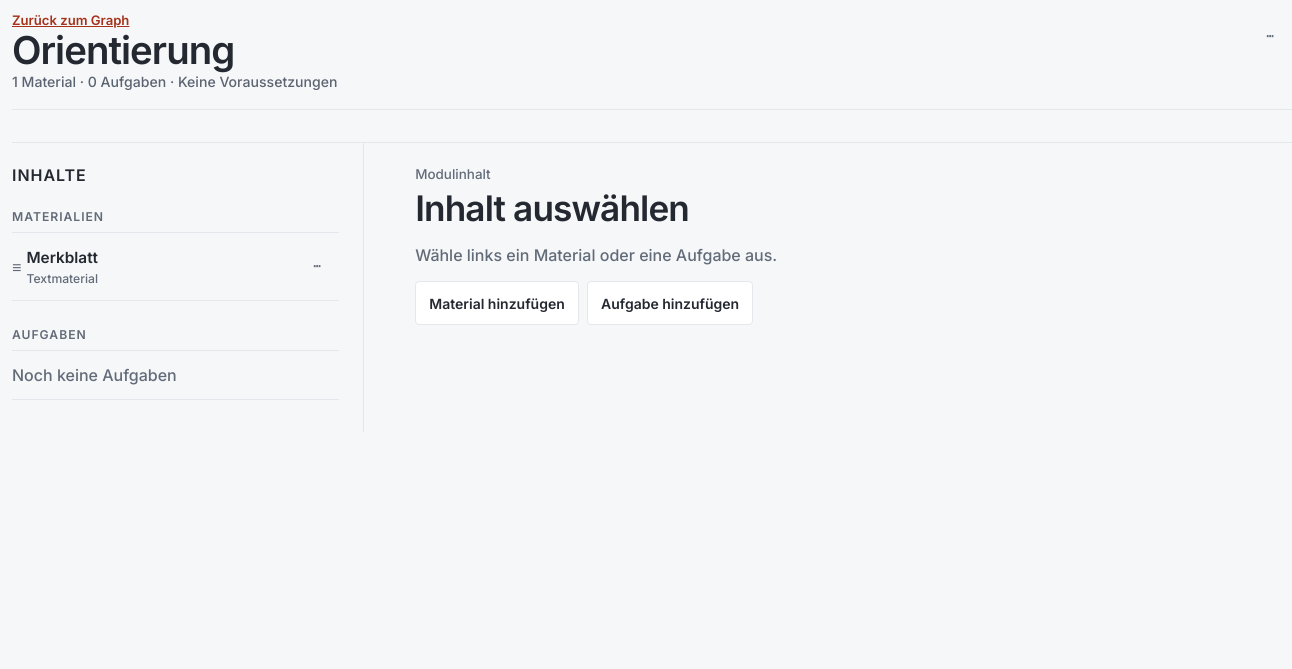
Test: teacher node editor page › removes the material draft marker after every field matches the saved material again
This screenshot has width=1292, height=669.
Click the button "≡ Merkblatt Textmaterial" at (62, 257), box [12,233,295,300]
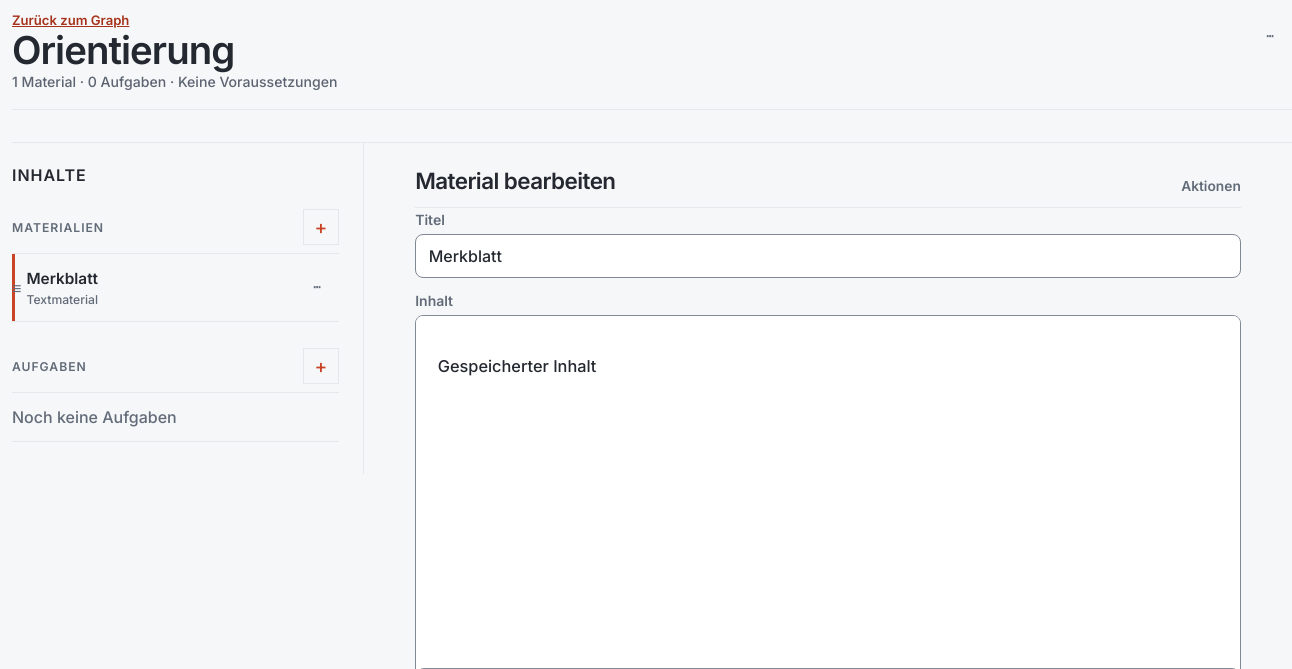
Replace the text in the field labelled "Titel" with "Merkblatt überarbeitet" at (828, 256), box [415,234,1241,278]
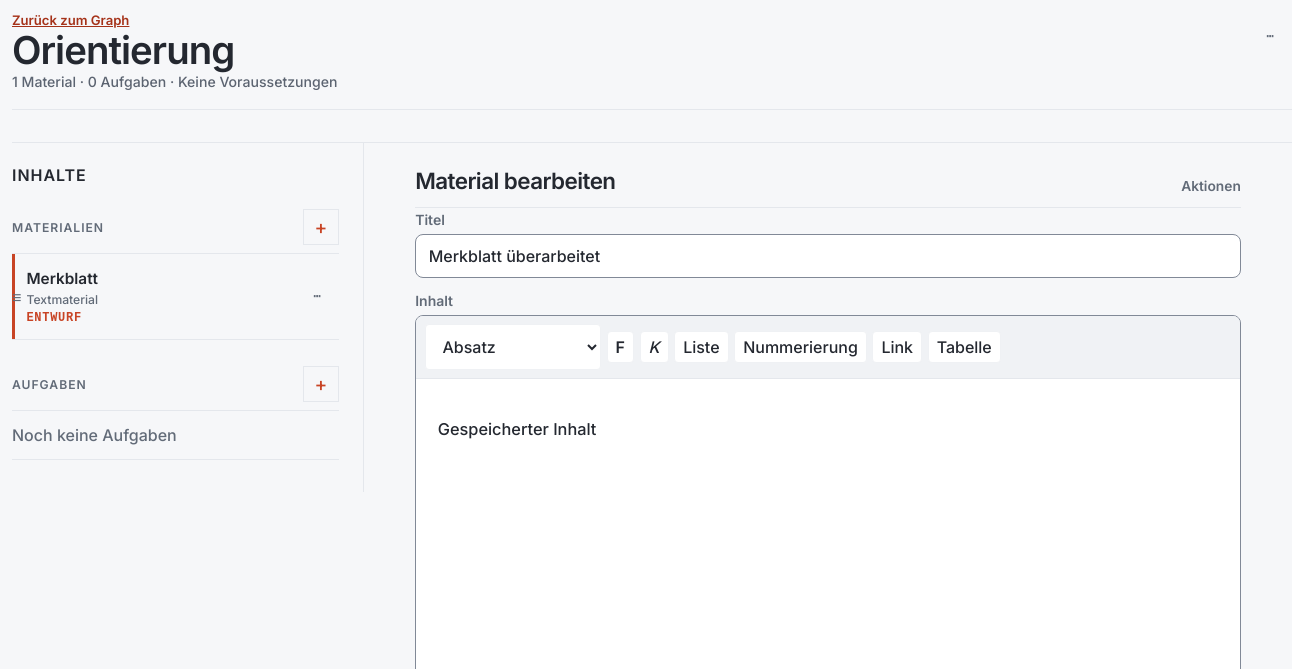
Now the text "Entwurf" is shown, box [26,311,82,325]
Replace the text in the field labelled "Titel" with "Merkblatt" at (828, 256), box [415,234,1241,278]
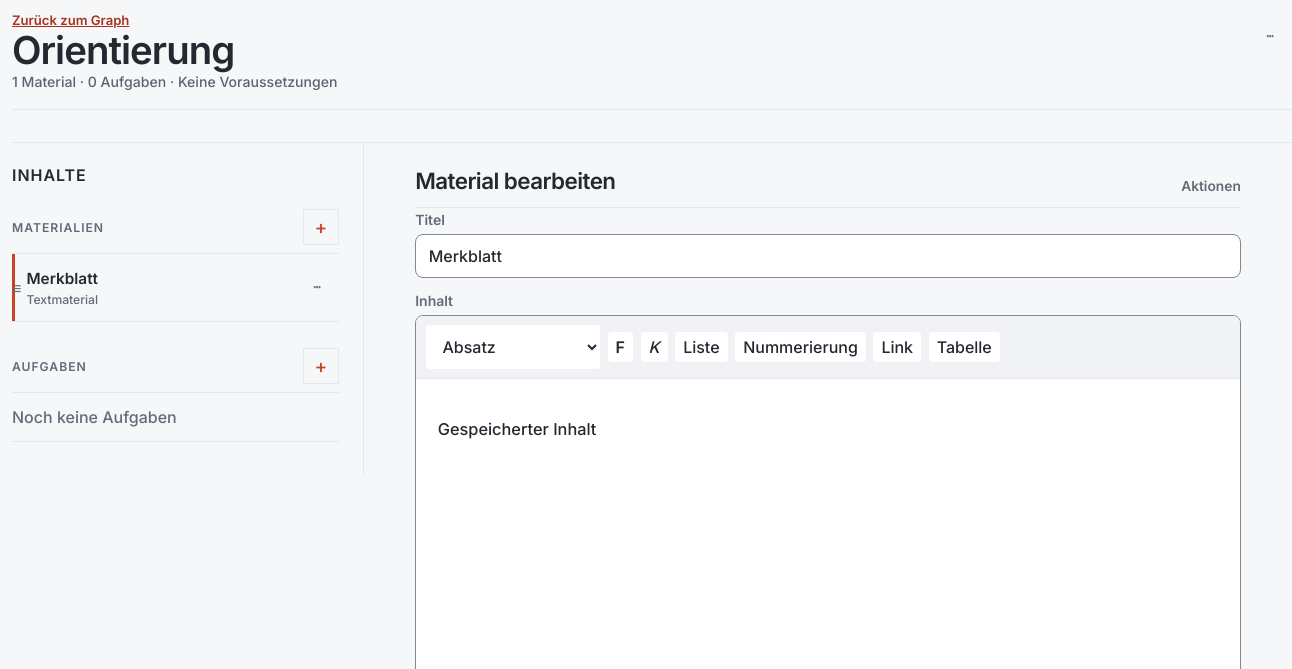
Now the text "Entwurf" is gone
